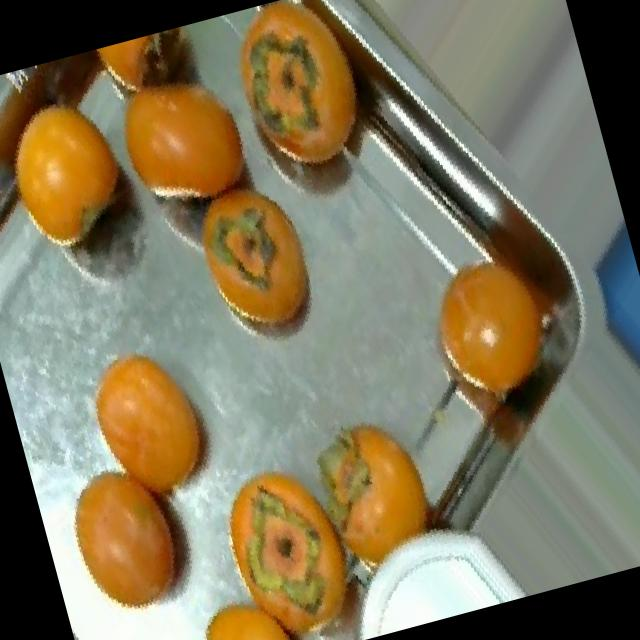Fruit: (378, 196, 640, 471), (283, 383, 473, 619), (54, 317, 248, 545), (29, 424, 232, 640), (169, 153, 353, 385), (187, 437, 375, 640), (0, 71, 155, 281), (169, 564, 318, 640)
